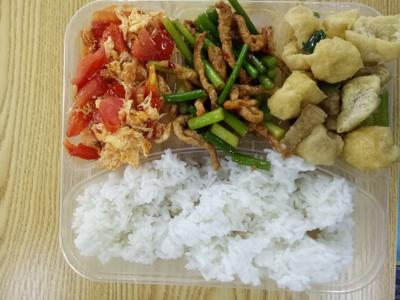jdxhs: (66, 3, 173, 166)
rice: (76, 158, 364, 293)
st: (166, 2, 278, 160)
